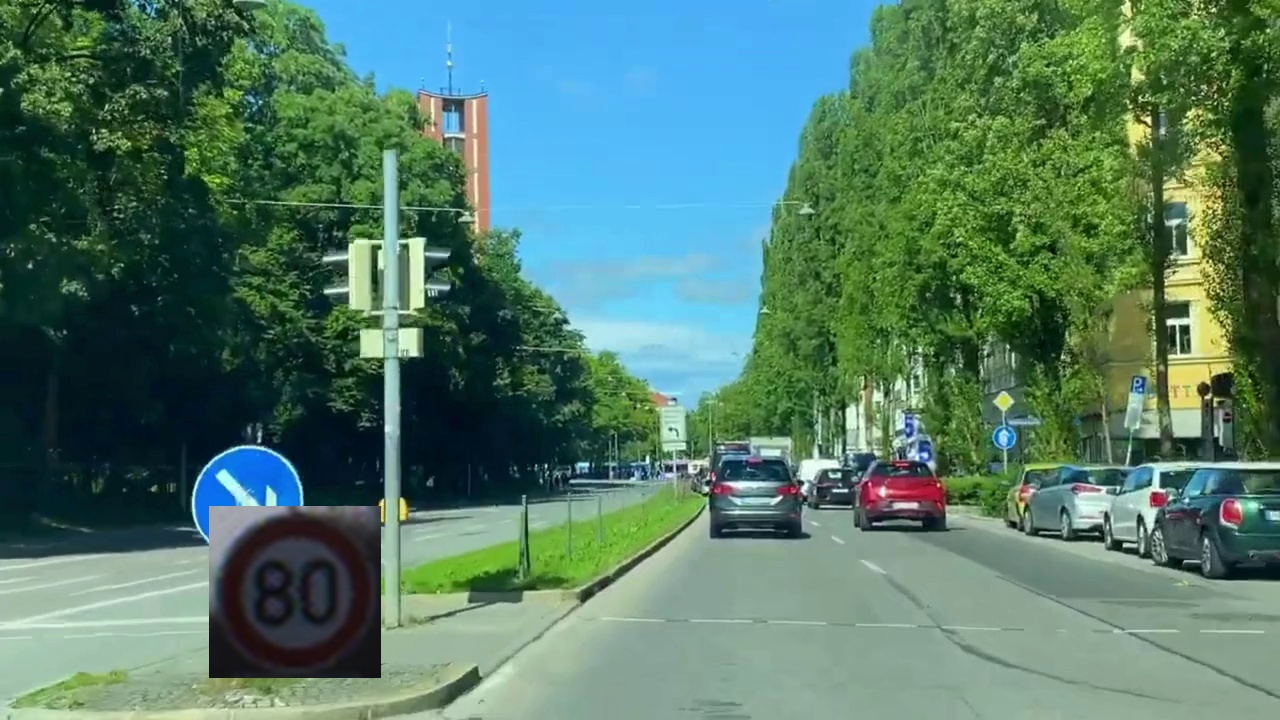Speed 80: (209, 506, 381, 678)
